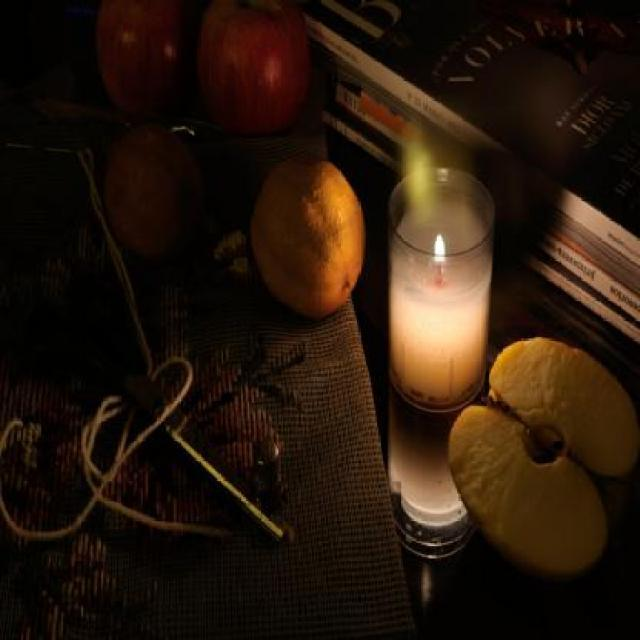Apple pie: (443, 336, 640, 572), (103, 117, 205, 265), (202, 0, 312, 136), (90, 0, 198, 114)
